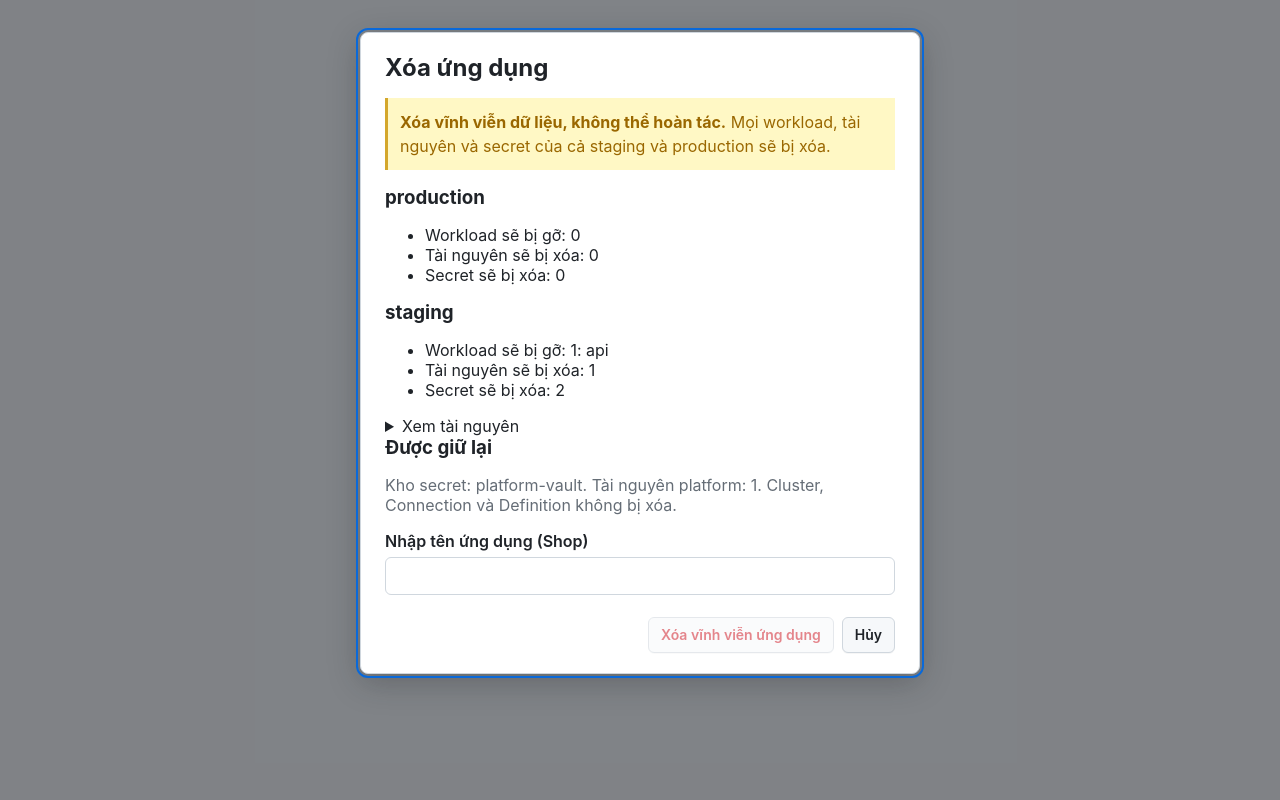
Test: application deletion dialog (UC-18 MS-01..04) › asks for a new review after a stale token and never resends
Type "Shop" into the field at point(640, 576), box [385,557,895,595]
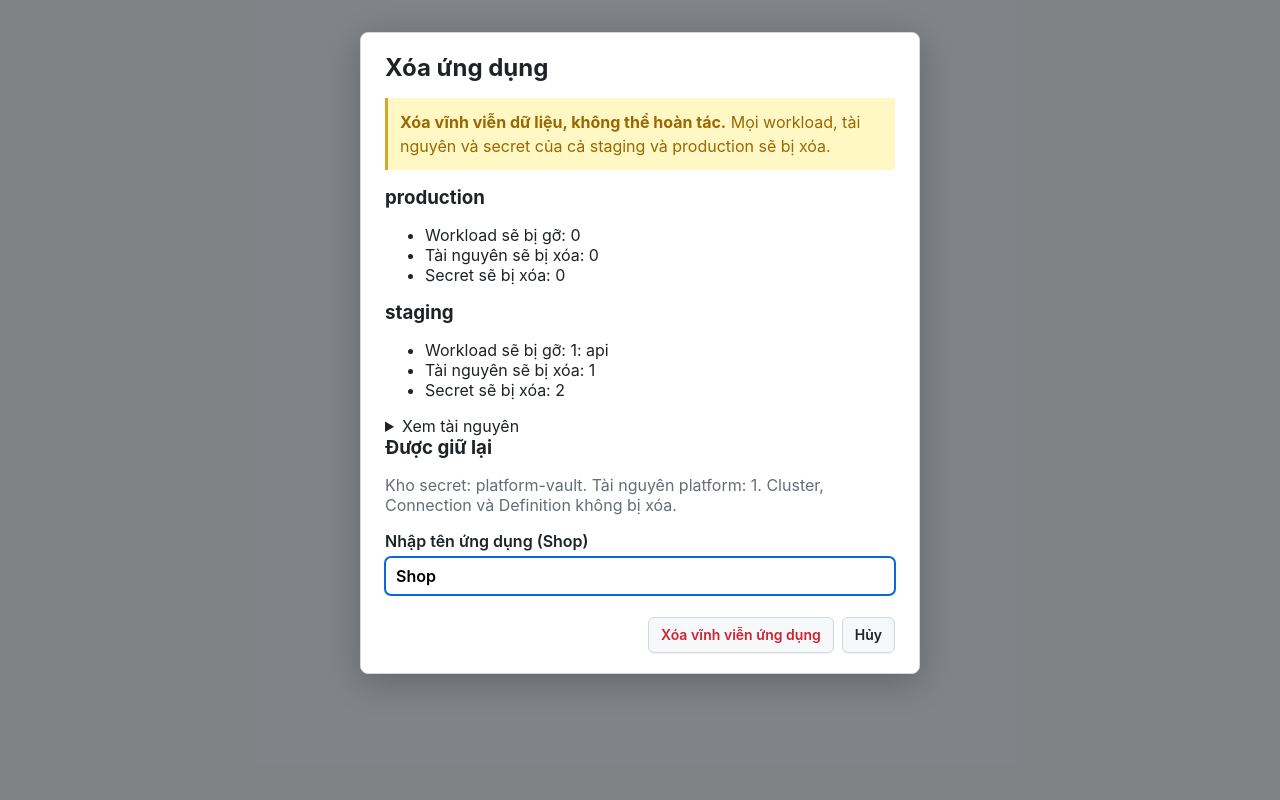
Click the button "Xóa vĩnh viễn ứng dụng" at point(741, 635), box [648,617,834,653]
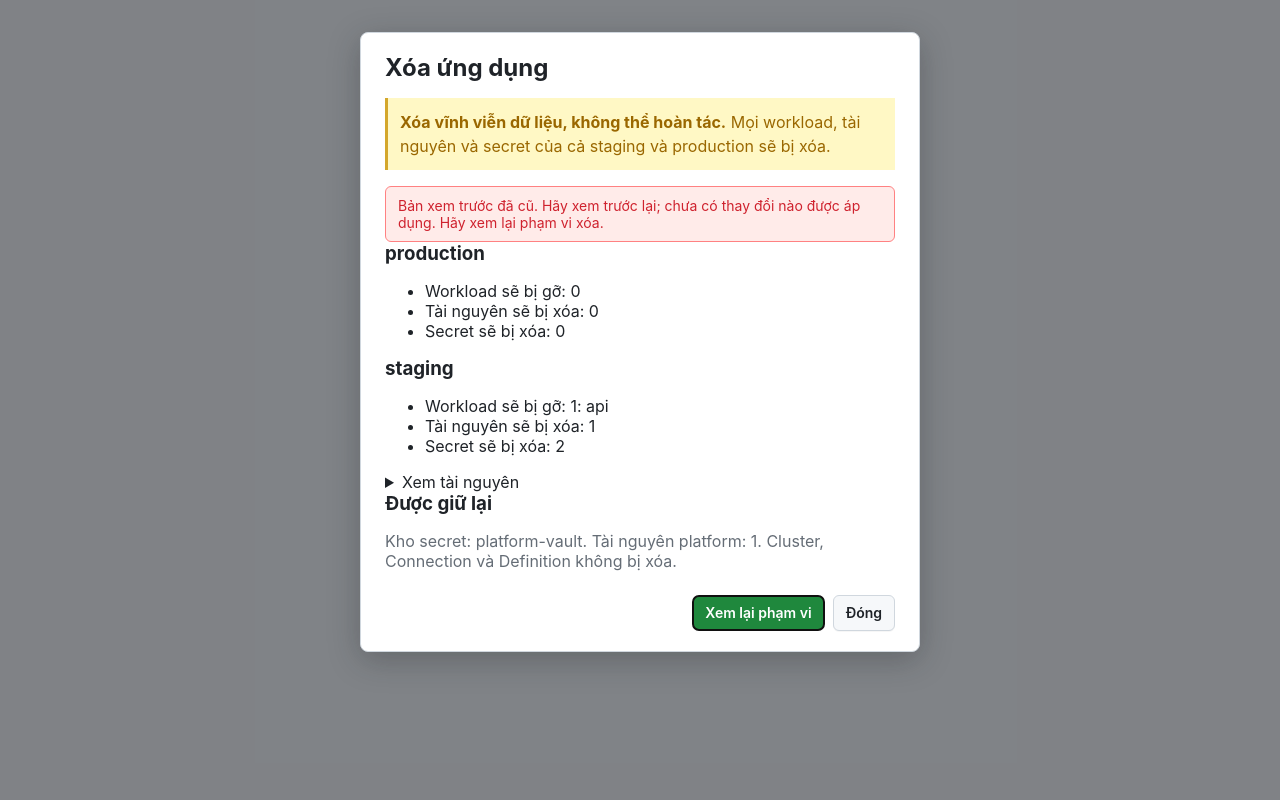
Expected: the button "Xem lại phạm vi" is shown, [692,595,825,631]
